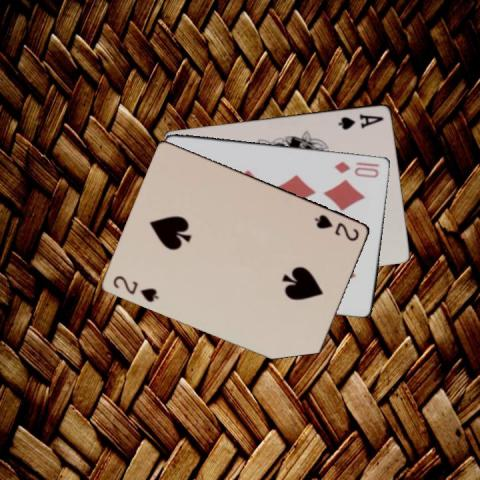10d: (332, 159, 381, 179)
2s: (312, 211, 362, 243), (110, 272, 160, 303)
As: (335, 110, 385, 130)
